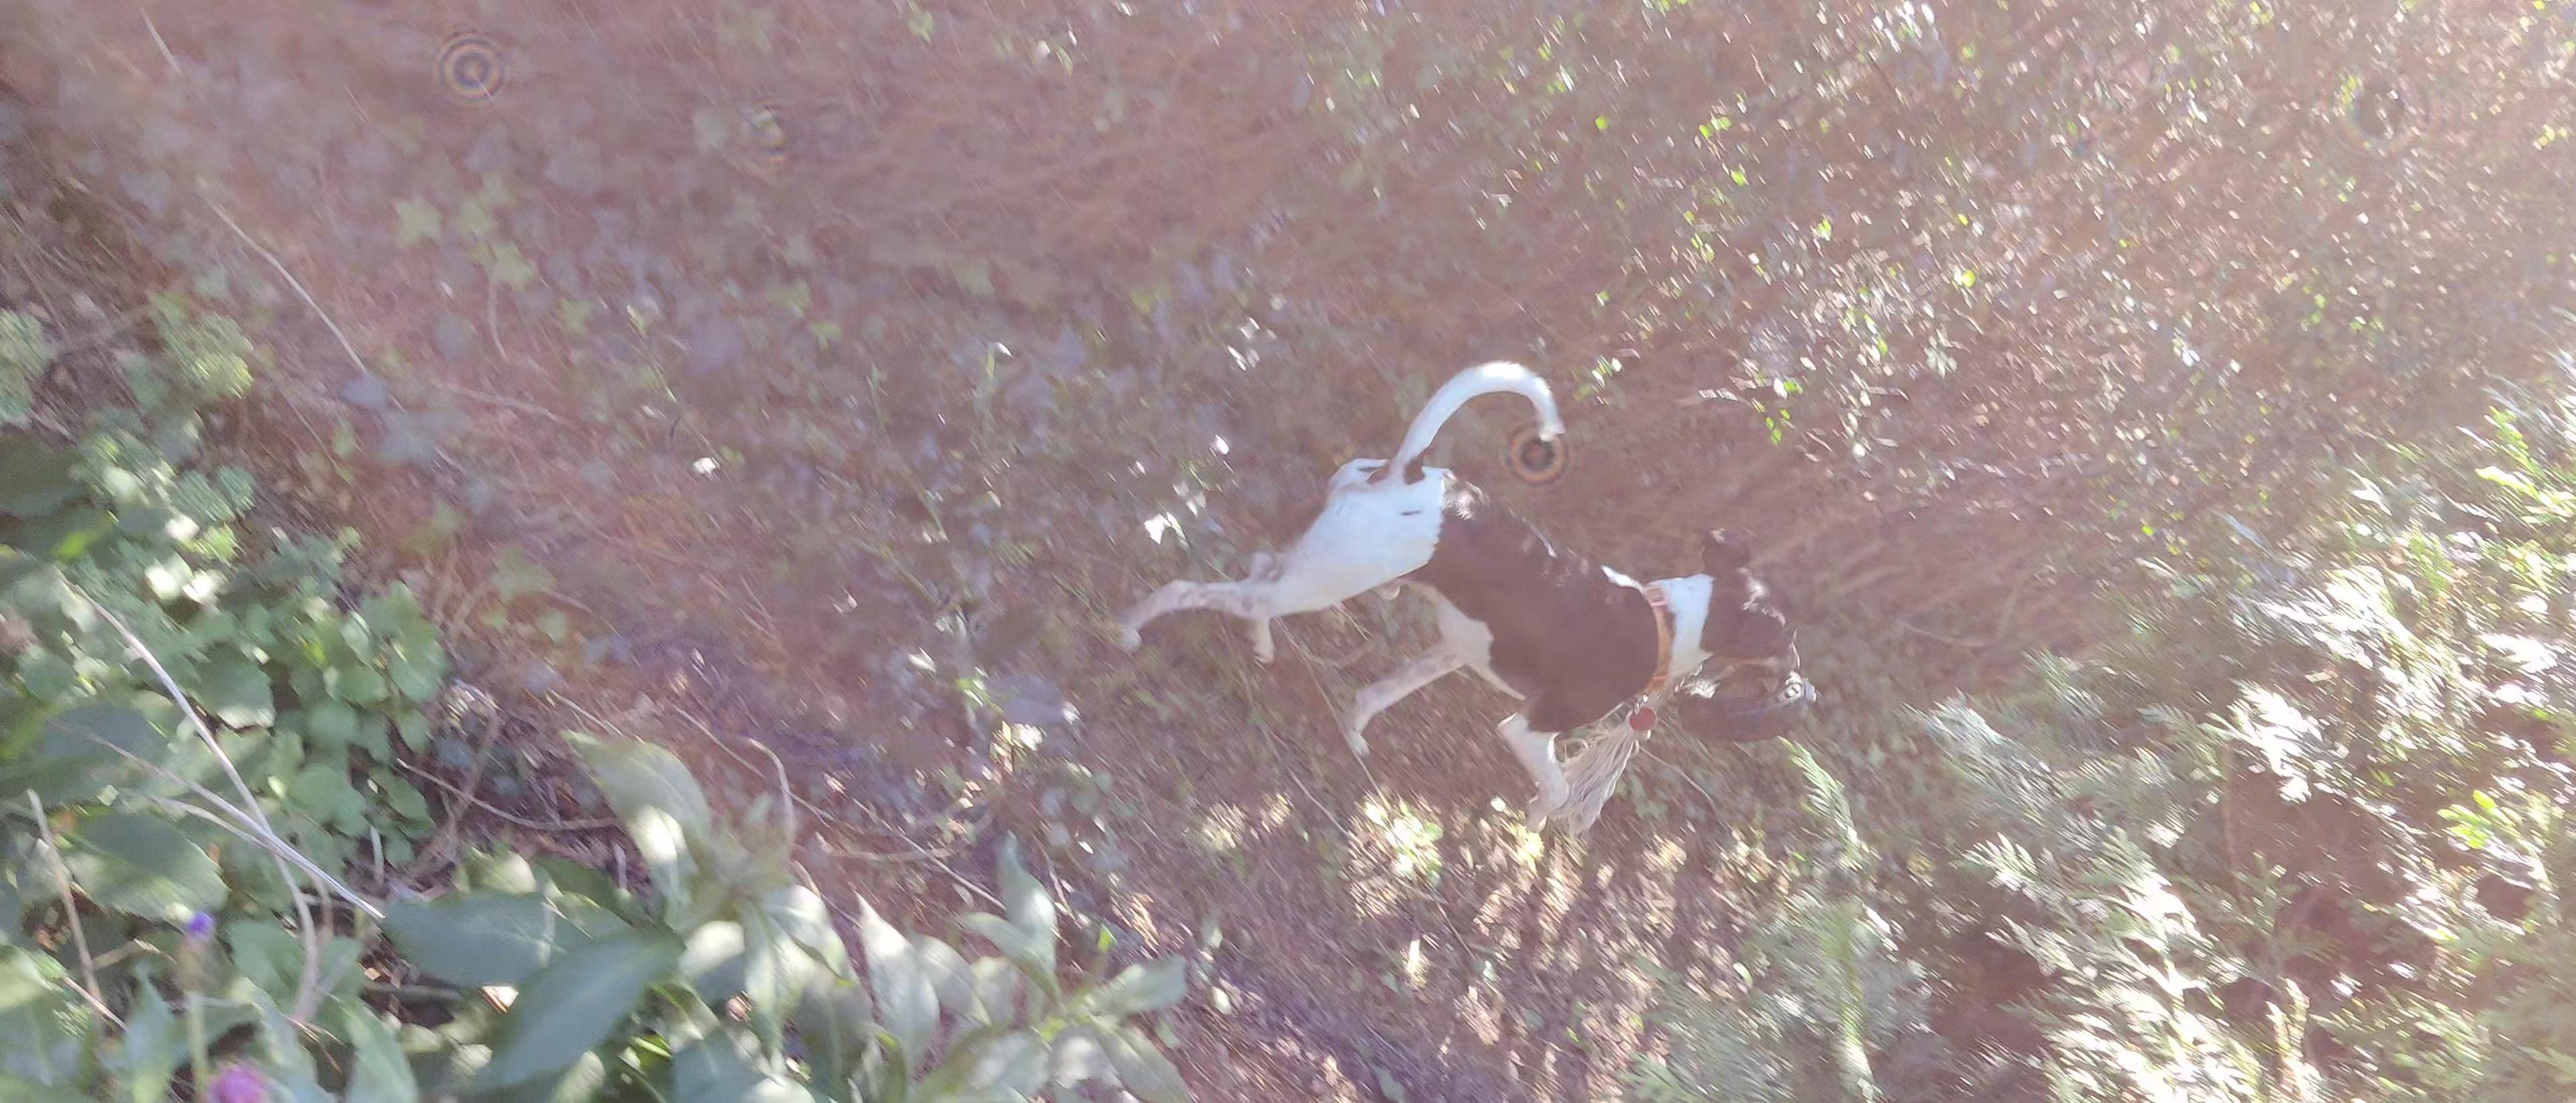Dog: (1101, 358, 1802, 837)
